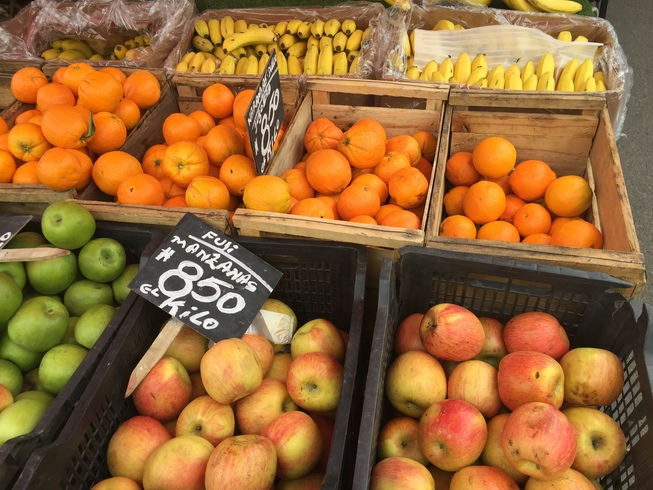precio: (124, 210, 299, 352), (244, 47, 292, 178)
